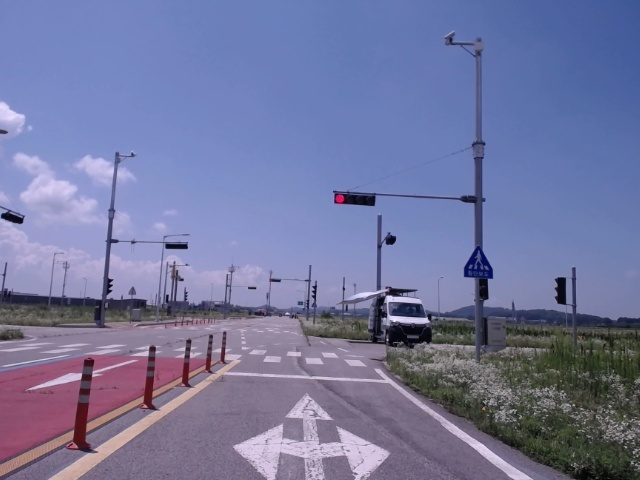red_4: (334, 193, 375, 207)
